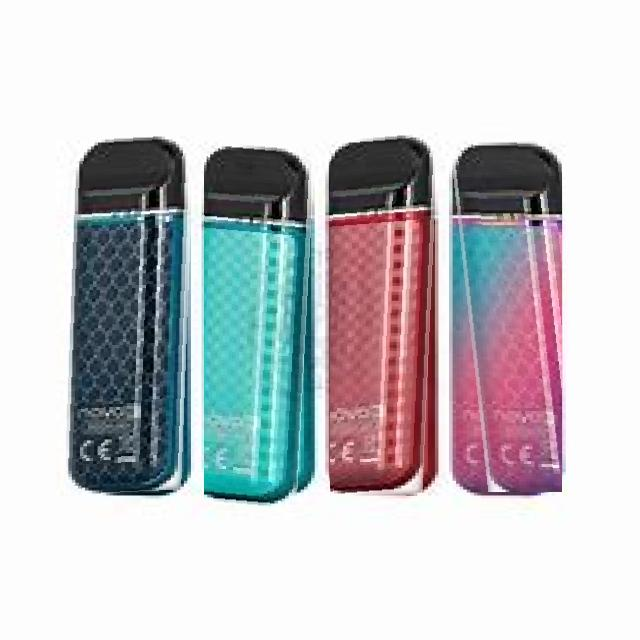Vapes: (66, 121, 195, 496), (204, 122, 316, 509), (330, 127, 439, 503), (449, 138, 562, 492)
